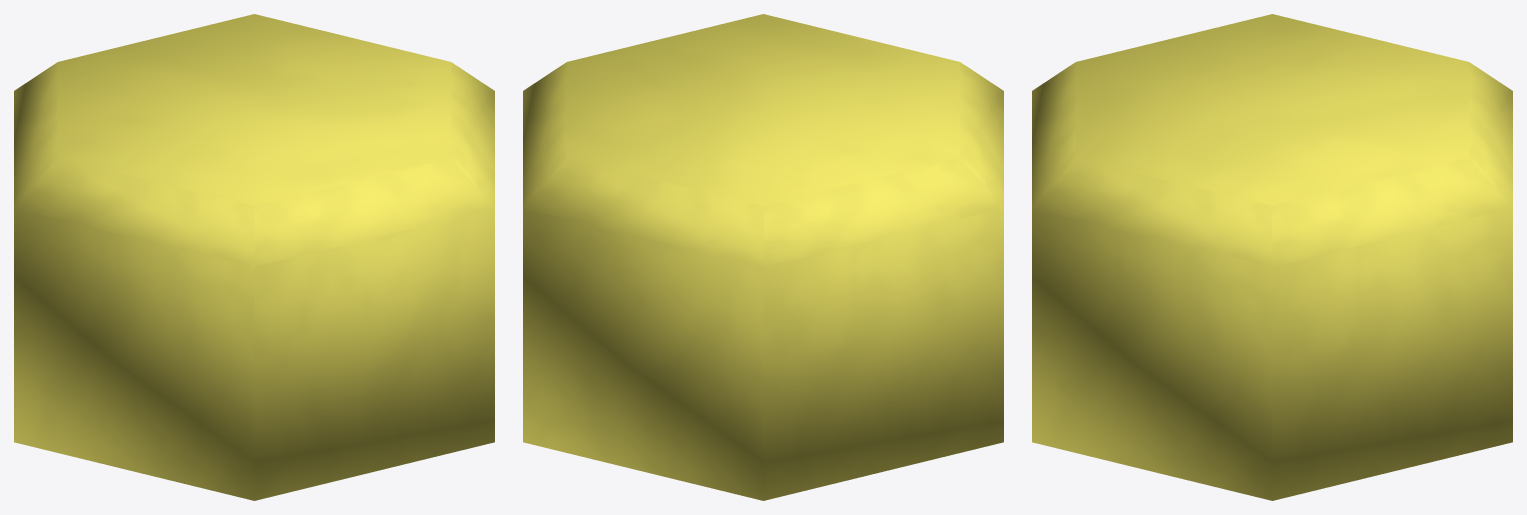
Rendered from Cake_C_06.FBX.
The picture shows the model from 3 angles, left to right: view 1: azimuth 30°, elevation 25°; view 2: azimuth 150°, elevation 25°; view 3: azimuth 270°, elevation 25°; orthographic projection.
Visible parts, largest first — view 1: Cake_D; view 2: Cake_D; view 3: Cake_D.
Boxes of the visible parts, left/top/right/bottom form: Cake_D: left=14, top=14, right=494, bottom=500; Cake_D: left=523, top=14, right=1003, bottom=500; Cake_D: left=1032, top=14, right=1512, bottom=500.
Size of the model in its own units: 102 by 55.58 by 88.51.
